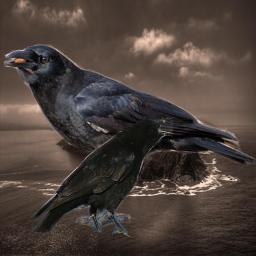Crow: (4, 43, 256, 227), (29, 116, 176, 242)
